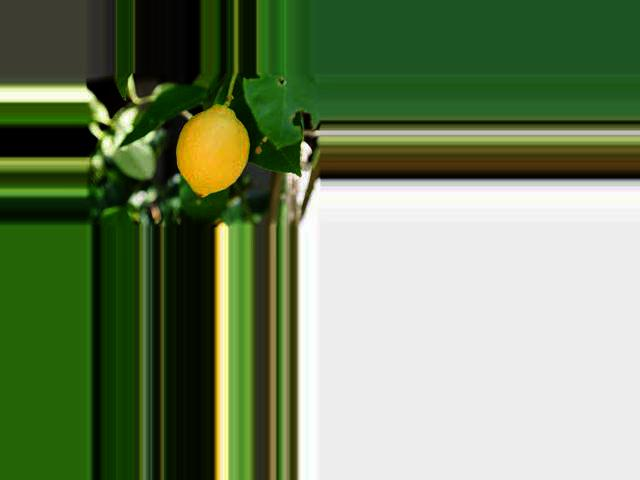lemon: (157, 98, 251, 209)
